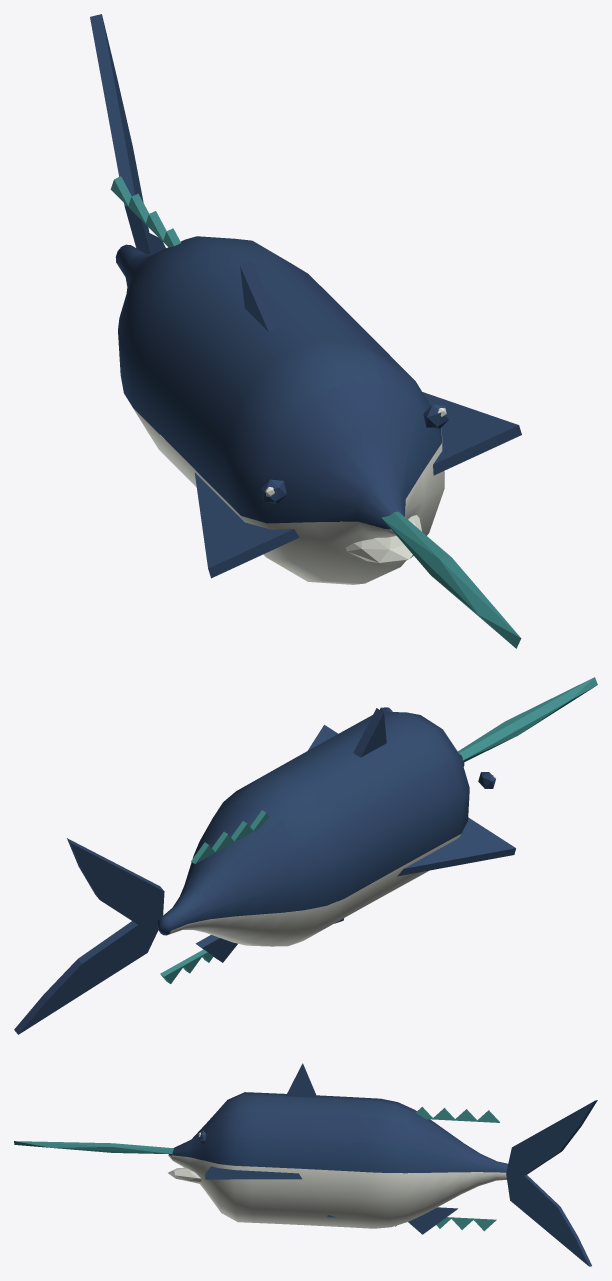
The model's file is fish_blue_marlin_a.glb.
The picture shows the model from 3 angles, top to bottom: view 1: azimuth 30°, elevation 25°; view 2: azimuth 150°, elevation 25°; view 3: azimuth 270°, elevation 25°; orthographic projection. The views are drawn at different scales.
Visible parts, largest first — view 1: blue_marlin_anal_fin, blue_marlin_body, blue_marlin_bill, blue_marlin_tail; view 2: blue_marlin_anal_fin, blue_marlin_tail, blue_marlin_body, blue_marlin_bill; view 3: blue_marlin_anal_fin, blue_marlin_body, blue_marlin_tail, blue_marlin_bill.
Boxes of the visible parts, x1=… form: blue_marlin_anal_fin: x1=115, y1=236, x2=521, y2=578; blue_marlin_body: x1=129, y1=402, x2=446, y2=584; blue_marlin_bill: x1=110, y1=176, x2=521, y2=648; blue_marlin_tail: x1=90, y1=14, x2=165, y2=254; blue_marlin_anal_fin: x1=157, y1=707, x2=515, y2=962; blue_marlin_tail: x1=14, y1=838, x2=164, y2=1034; blue_marlin_body: x1=168, y1=707, x2=495, y2=946; blue_marlin_bill: x1=160, y1=677, x2=597, y2=983; blue_marlin_anal_fin: x1=168, y1=1063, x2=507, y2=1234; blue_marlin_body: x1=168, y1=1118, x2=506, y2=1228; blue_marlin_tail: x1=506, y1=1100, x2=597, y2=1266; blue_marlin_bill: x1=14, y1=1107, x2=499, y2=1231.
Bounding box in the file's own units: 1.33 × 1.11 × 3.91.
